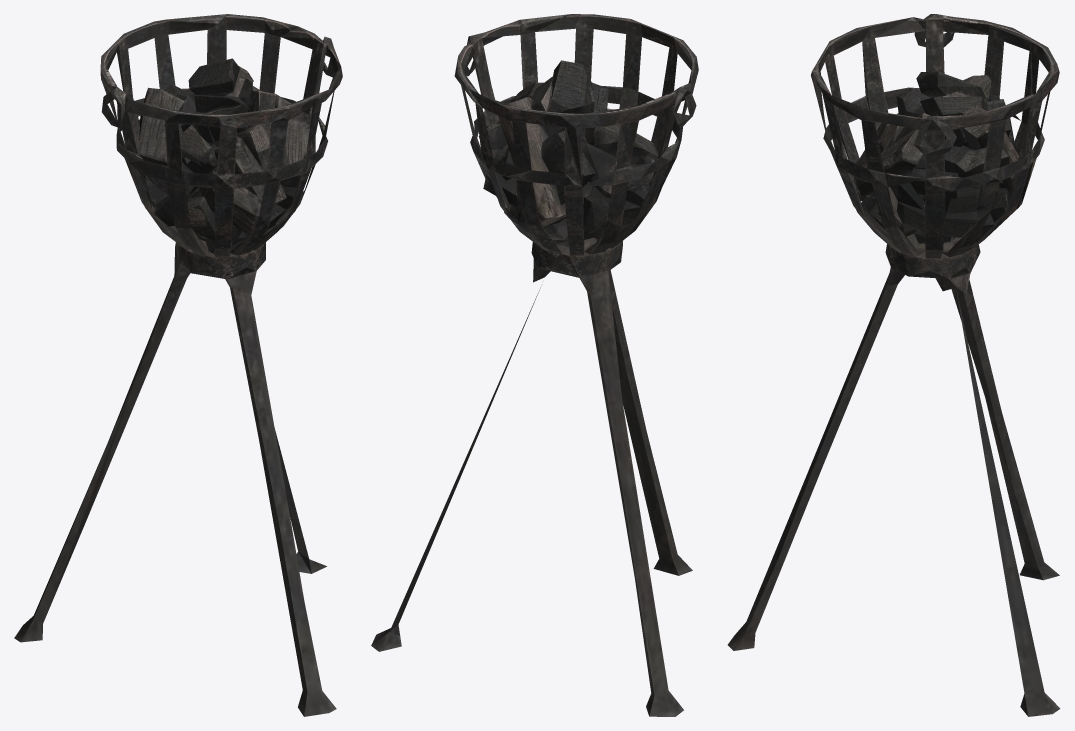
File: brazier.glb
The picture shows the model from 3 angles, left to right: view 1: azimuth 30°, elevation 25°; view 2: azimuth 150°, elevation 25°; view 3: azimuth 270°, elevation 25°; orthographic projection.
Visible parts, largest first — view 1: output_unwrapped; view 2: output_unwrapped; view 3: output_unwrapped.
Boxes of the visible parts, x1,y1,x2,y2 form: output_unwrapped: (14,14,342,716); output_unwrapped: (371,14,698,716); output_unwrapped: (727,14,1060,716).
Bounding box in the file's own units: 0.8915 × 1.6 × 0.8339.
1 material, 1 textured.
